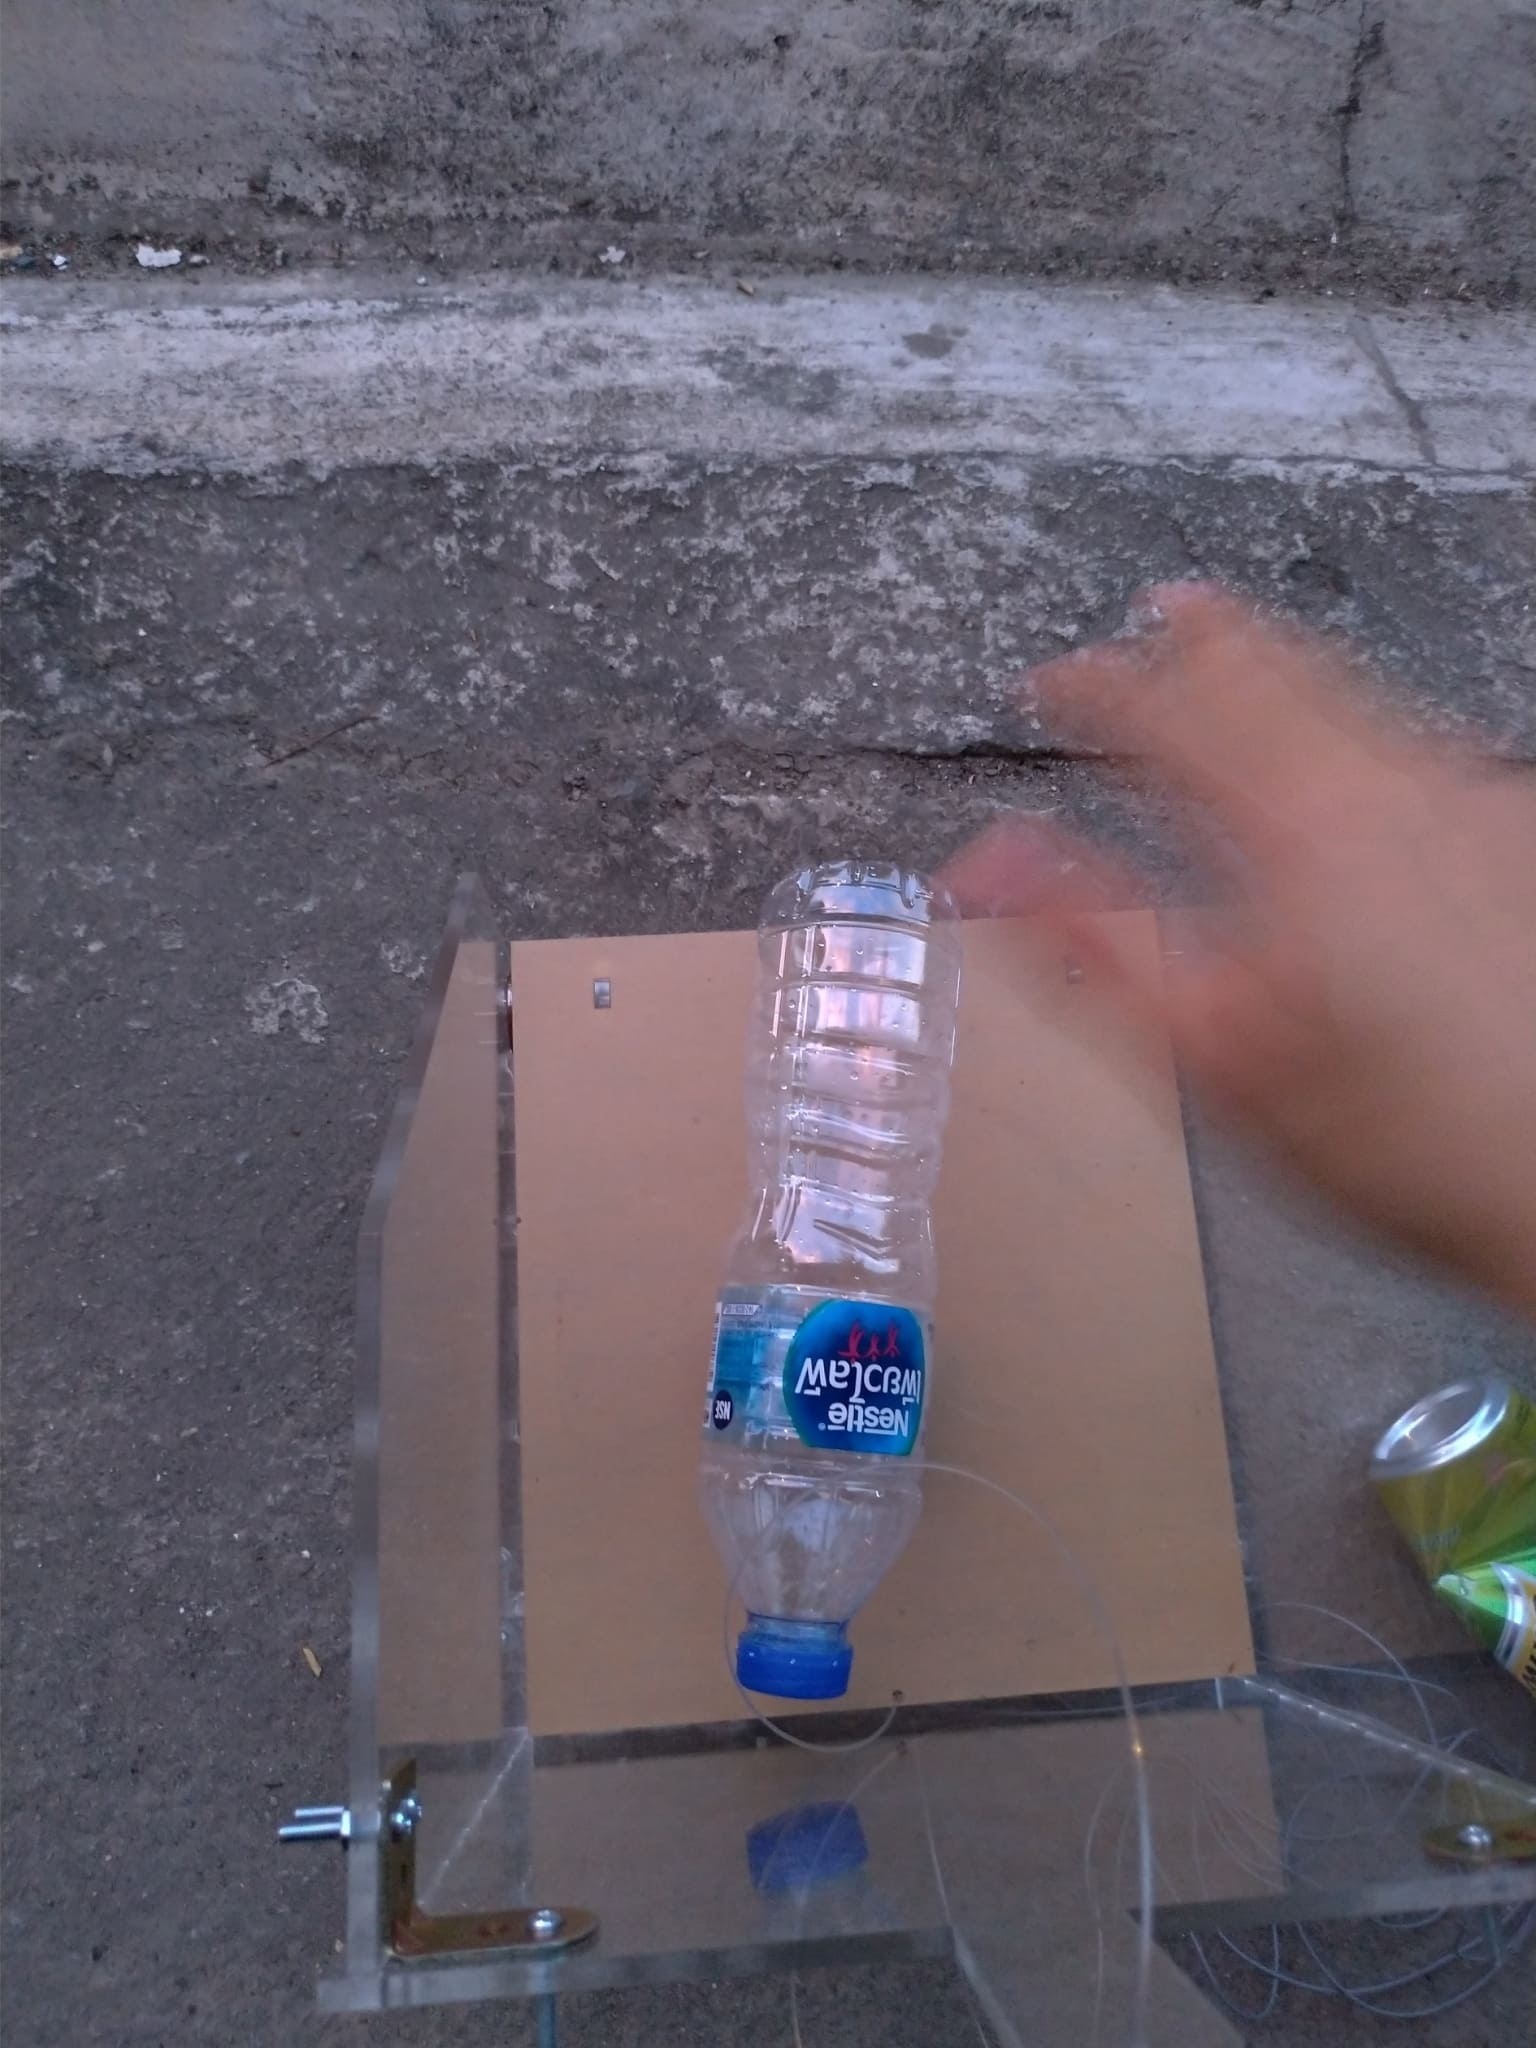AlCan: (1373, 1374, 1536, 1687)
PlasticBottle: (695, 858, 963, 1700)
